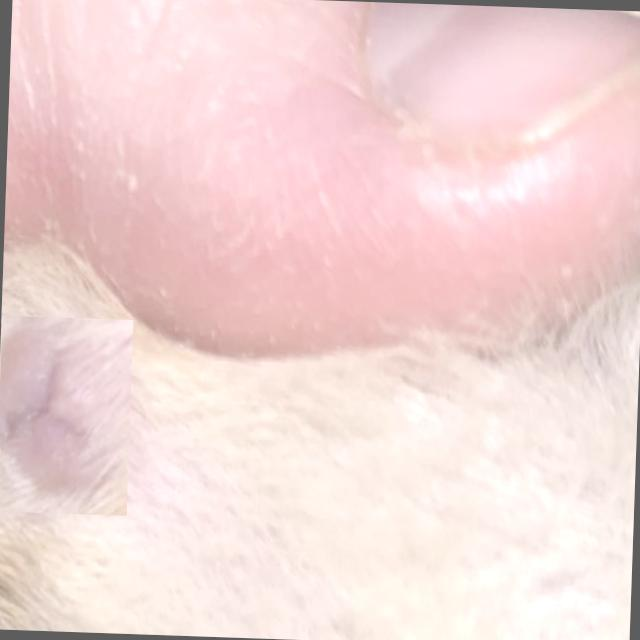fem: (0, 318, 132, 515)
